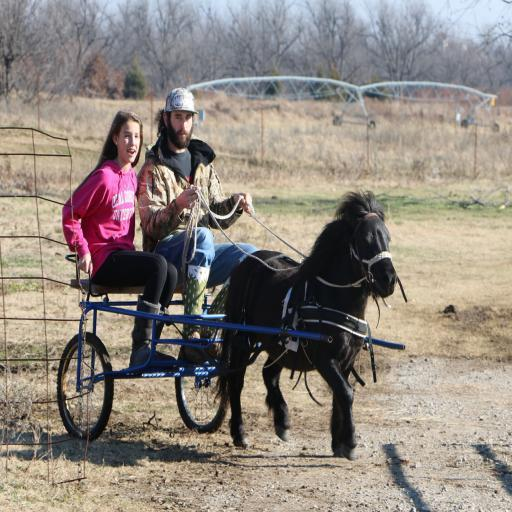horse: (214, 186, 398, 461)
